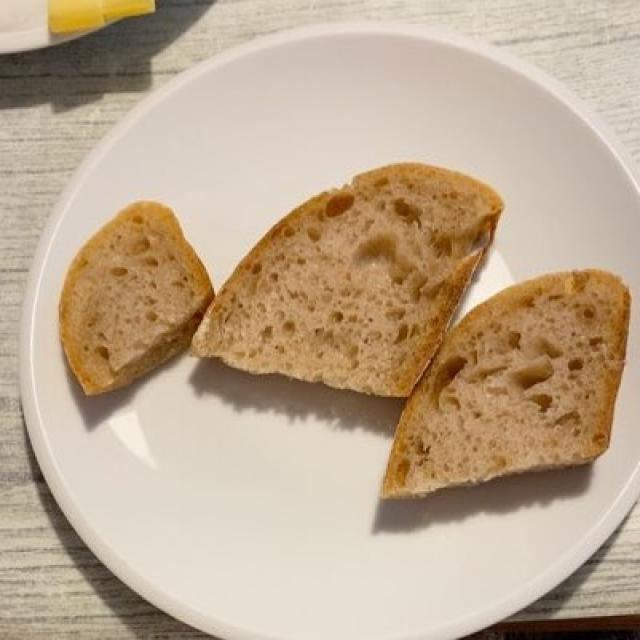bread: (61, 164, 620, 489)
